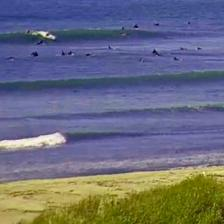surfer: (35, 40, 46, 45), (152, 49, 160, 55), (85, 52, 94, 57), (6, 56, 15, 61), (138, 58, 146, 63), (173, 56, 180, 61), (32, 52, 39, 57), (108, 46, 116, 50), (68, 51, 74, 56), (45, 32, 51, 37), (132, 24, 139, 28), (61, 51, 66, 56), (186, 21, 192, 25), (196, 46, 202, 50), (180, 47, 186, 51), (154, 23, 160, 27), (125, 34, 130, 38), (121, 26, 126, 30)
